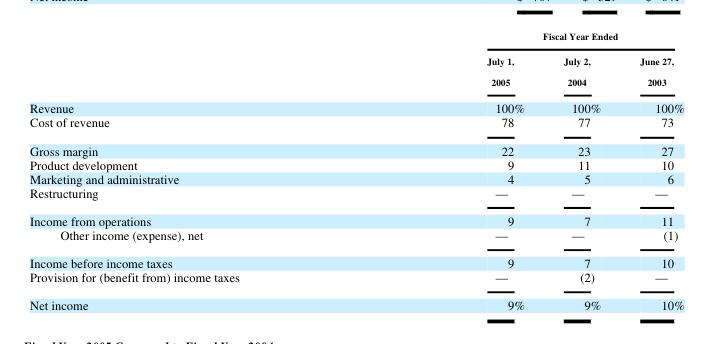table: (29, 29, 683, 312)
table column: (29, 29, 362, 312), (362, 29, 543, 312), (543, 29, 619, 312), (619, 29, 683, 312)
table column header: (29, 29, 683, 93)
table row: (29, 48, 683, 93), (29, 226, 683, 248), (29, 290, 683, 312), (29, 93, 683, 114), (29, 114, 683, 135), (29, 135, 683, 156), (29, 184, 683, 205), (29, 205, 683, 226), (29, 248, 683, 269), (29, 269, 683, 290), (29, 29, 683, 48), (29, 156, 683, 170), (29, 170, 683, 184)
table spanning cell: (362, 29, 683, 48)
